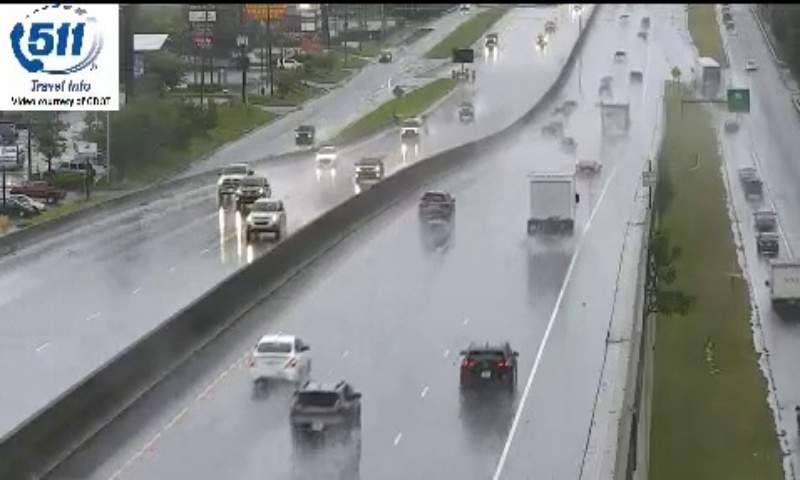car: (289, 380, 361, 434), (460, 342, 517, 390), (251, 335, 309, 382), (420, 192, 455, 222)
small-truck: (527, 171, 575, 236)
